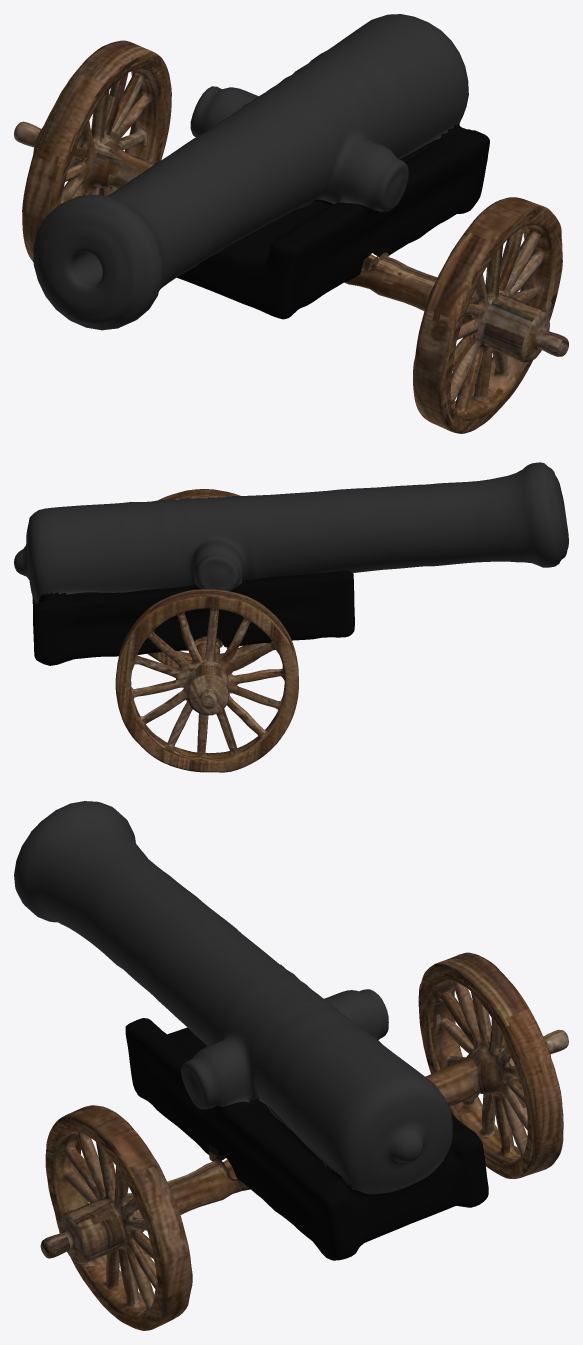
File: 子母炮.fbx
3 views of the same model, one above another, from view 1: azimuth 30°, elevation 25°; view 2: azimuth 150°, elevation 25°; view 3: azimuth 270°, elevation 25° (orthographic). The views are drawn at different scales.
Parts seen in each view (by area): view 1: 对象002, 对象, 对象001; view 2: 对象002, 对象, 对象001; view 3: 对象002, 对象, 对象001.
Boxes of the visible parts, <box> form: 对象002: <box>33,14,468,330</box>; 对象: <box>14,40,568,433</box>; 对象001: <box>177,123,489,319</box>; 对象002: <box>14,462,568,603</box>; 对象: <box>115,489,298,772</box>; 对象001: <box>32,570,354,665</box>; 对象002: <box>14,801,452,1194</box>; 对象: <box>40,952,568,1330</box>; 对象001: <box>125,964,488,1260</box>.
Bounding box in the file's own units: 87609 × 50362 × 77426.
